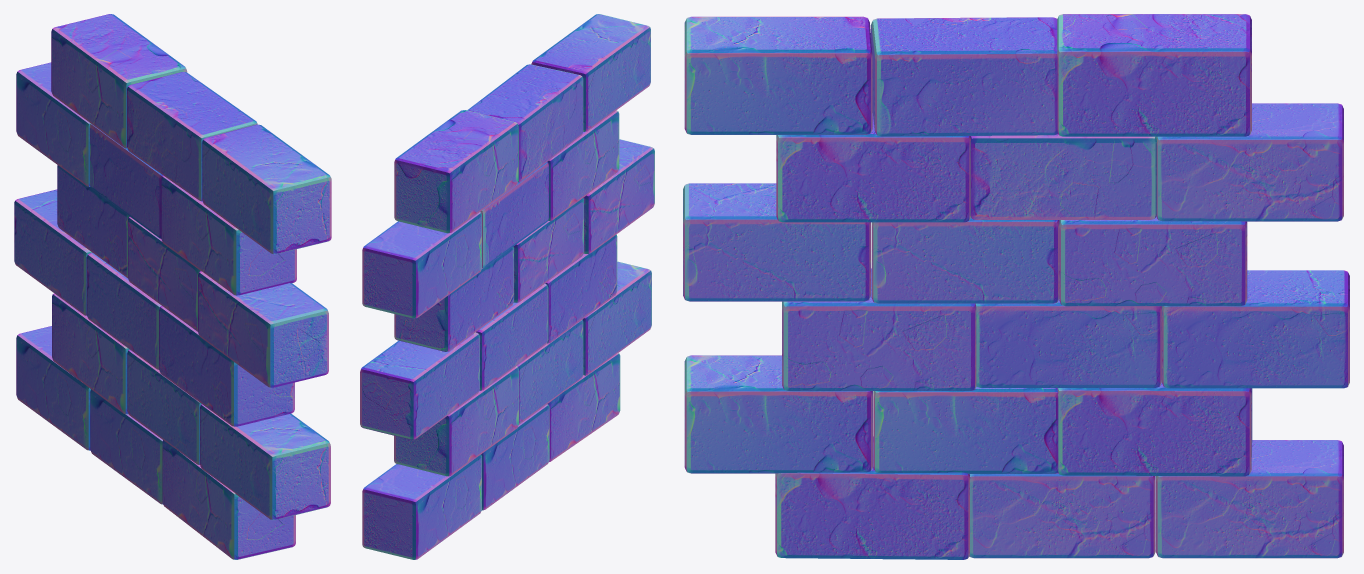
The model's file is Dungeon_WallBricksLargeFreeform.fbx.
3 views of the same model, side by side, from view 1: azimuth 30°, elevation 25°; view 2: azimuth 150°, elevation 25°; view 3: azimuth 270°, elevation 25° (orthographic). The views are drawn at different scales.
Parts seen in each view (by area): view 1: MeshHP; view 2: MeshHP; view 3: MeshHP.
Boxes of the visible parts, <box> form: MeshHP: <box>14,14,331,559</box>; MeshHP: <box>360,14,654,559</box>; MeshHP: <box>683,14,1349,559</box>.
Size of the model in its own units: 0.7106 by 4.02 by 4.76.
1 material, 1 textured.
